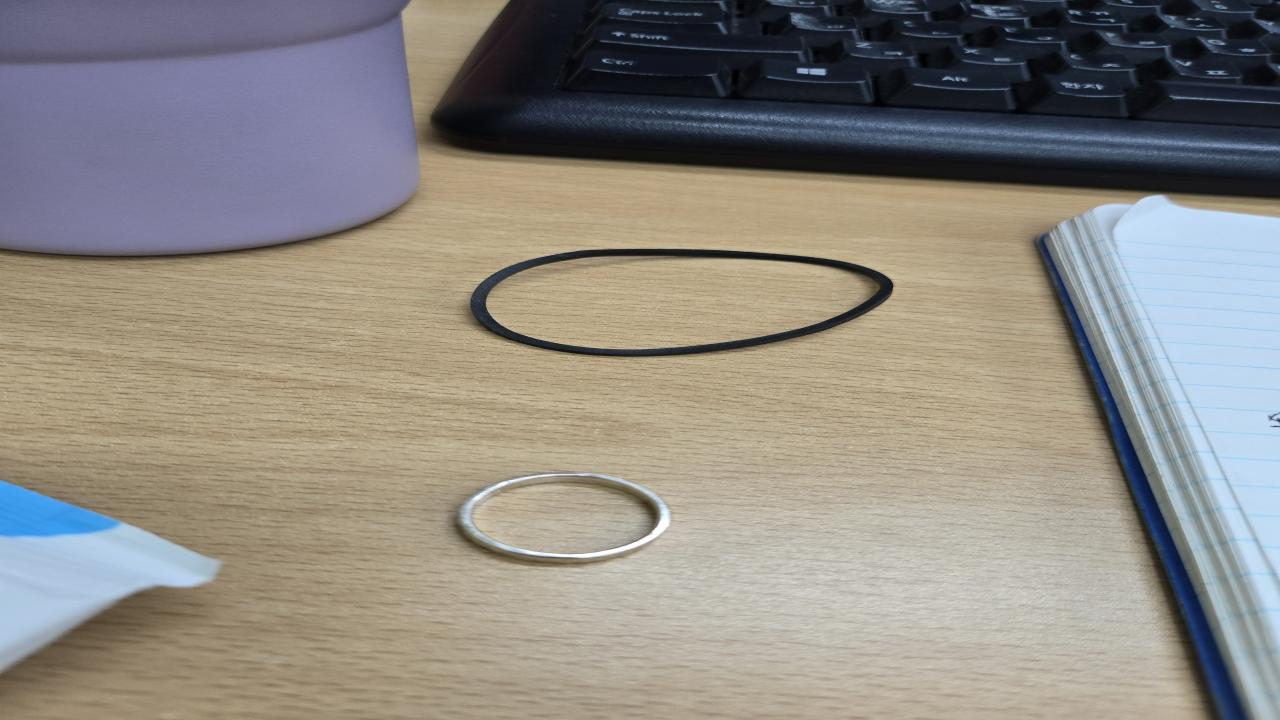ring: (450, 472, 674, 564)
